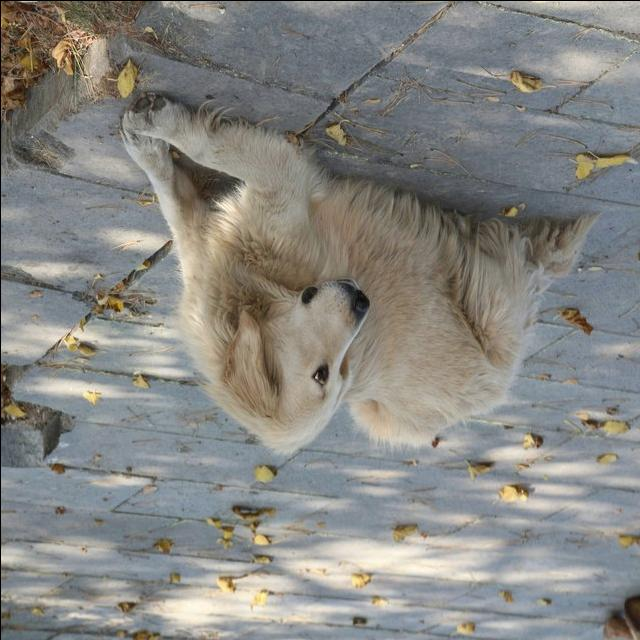retriever: (116, 92, 599, 457)
